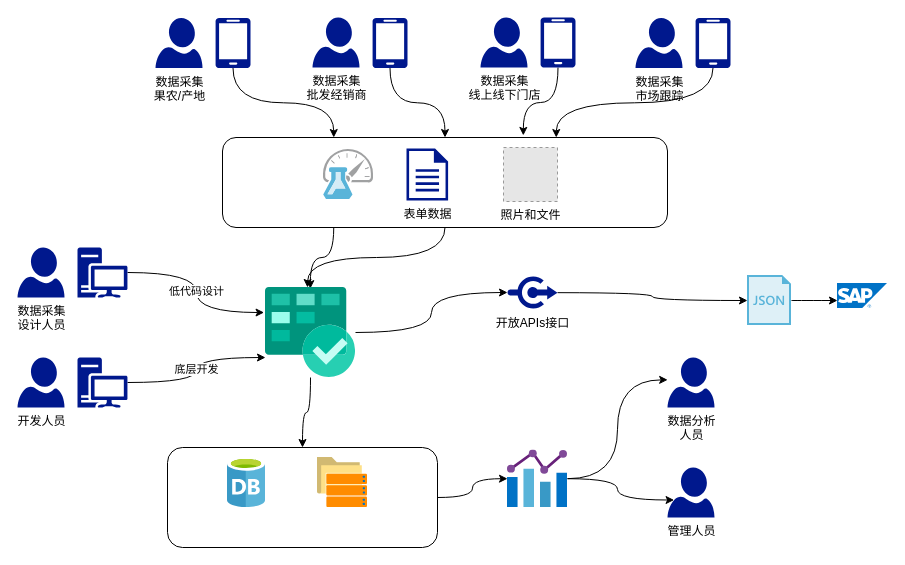
Some shapes in this 905 by 565 pixel diagram are drawn without their labels. Grey dashed boxes stand in for pictures. The centre of each missing label's shape, as x and y in pixels:
"低代码 数据分析工具" belongs at point (537, 478).
"低代码应用平台" belongs at point (310, 332).
"外部业务 执行系统" belongs at point (862, 295).
"结构化数据库" belongs at point (246, 482).
"质检数据" belongs at point (348, 174).
"非结构化 数据存储" belongs at point (342, 482).
